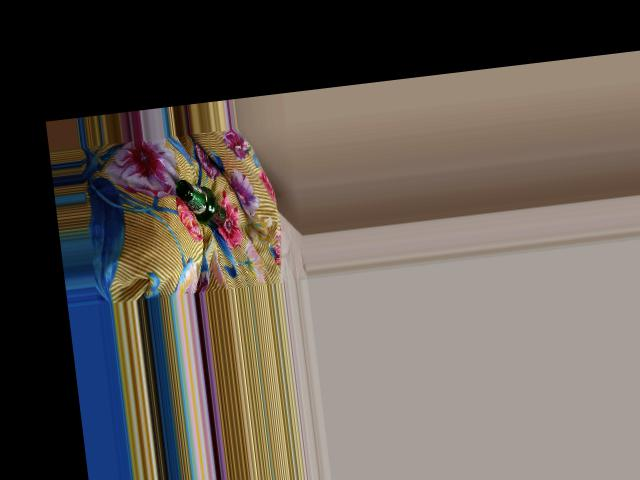beer: (173, 174, 227, 232)
